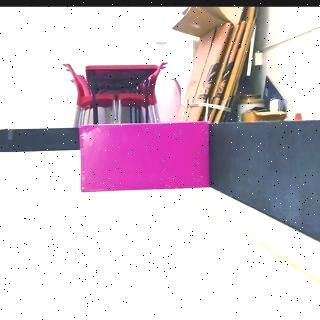xparking: (78, 124, 210, 190)
